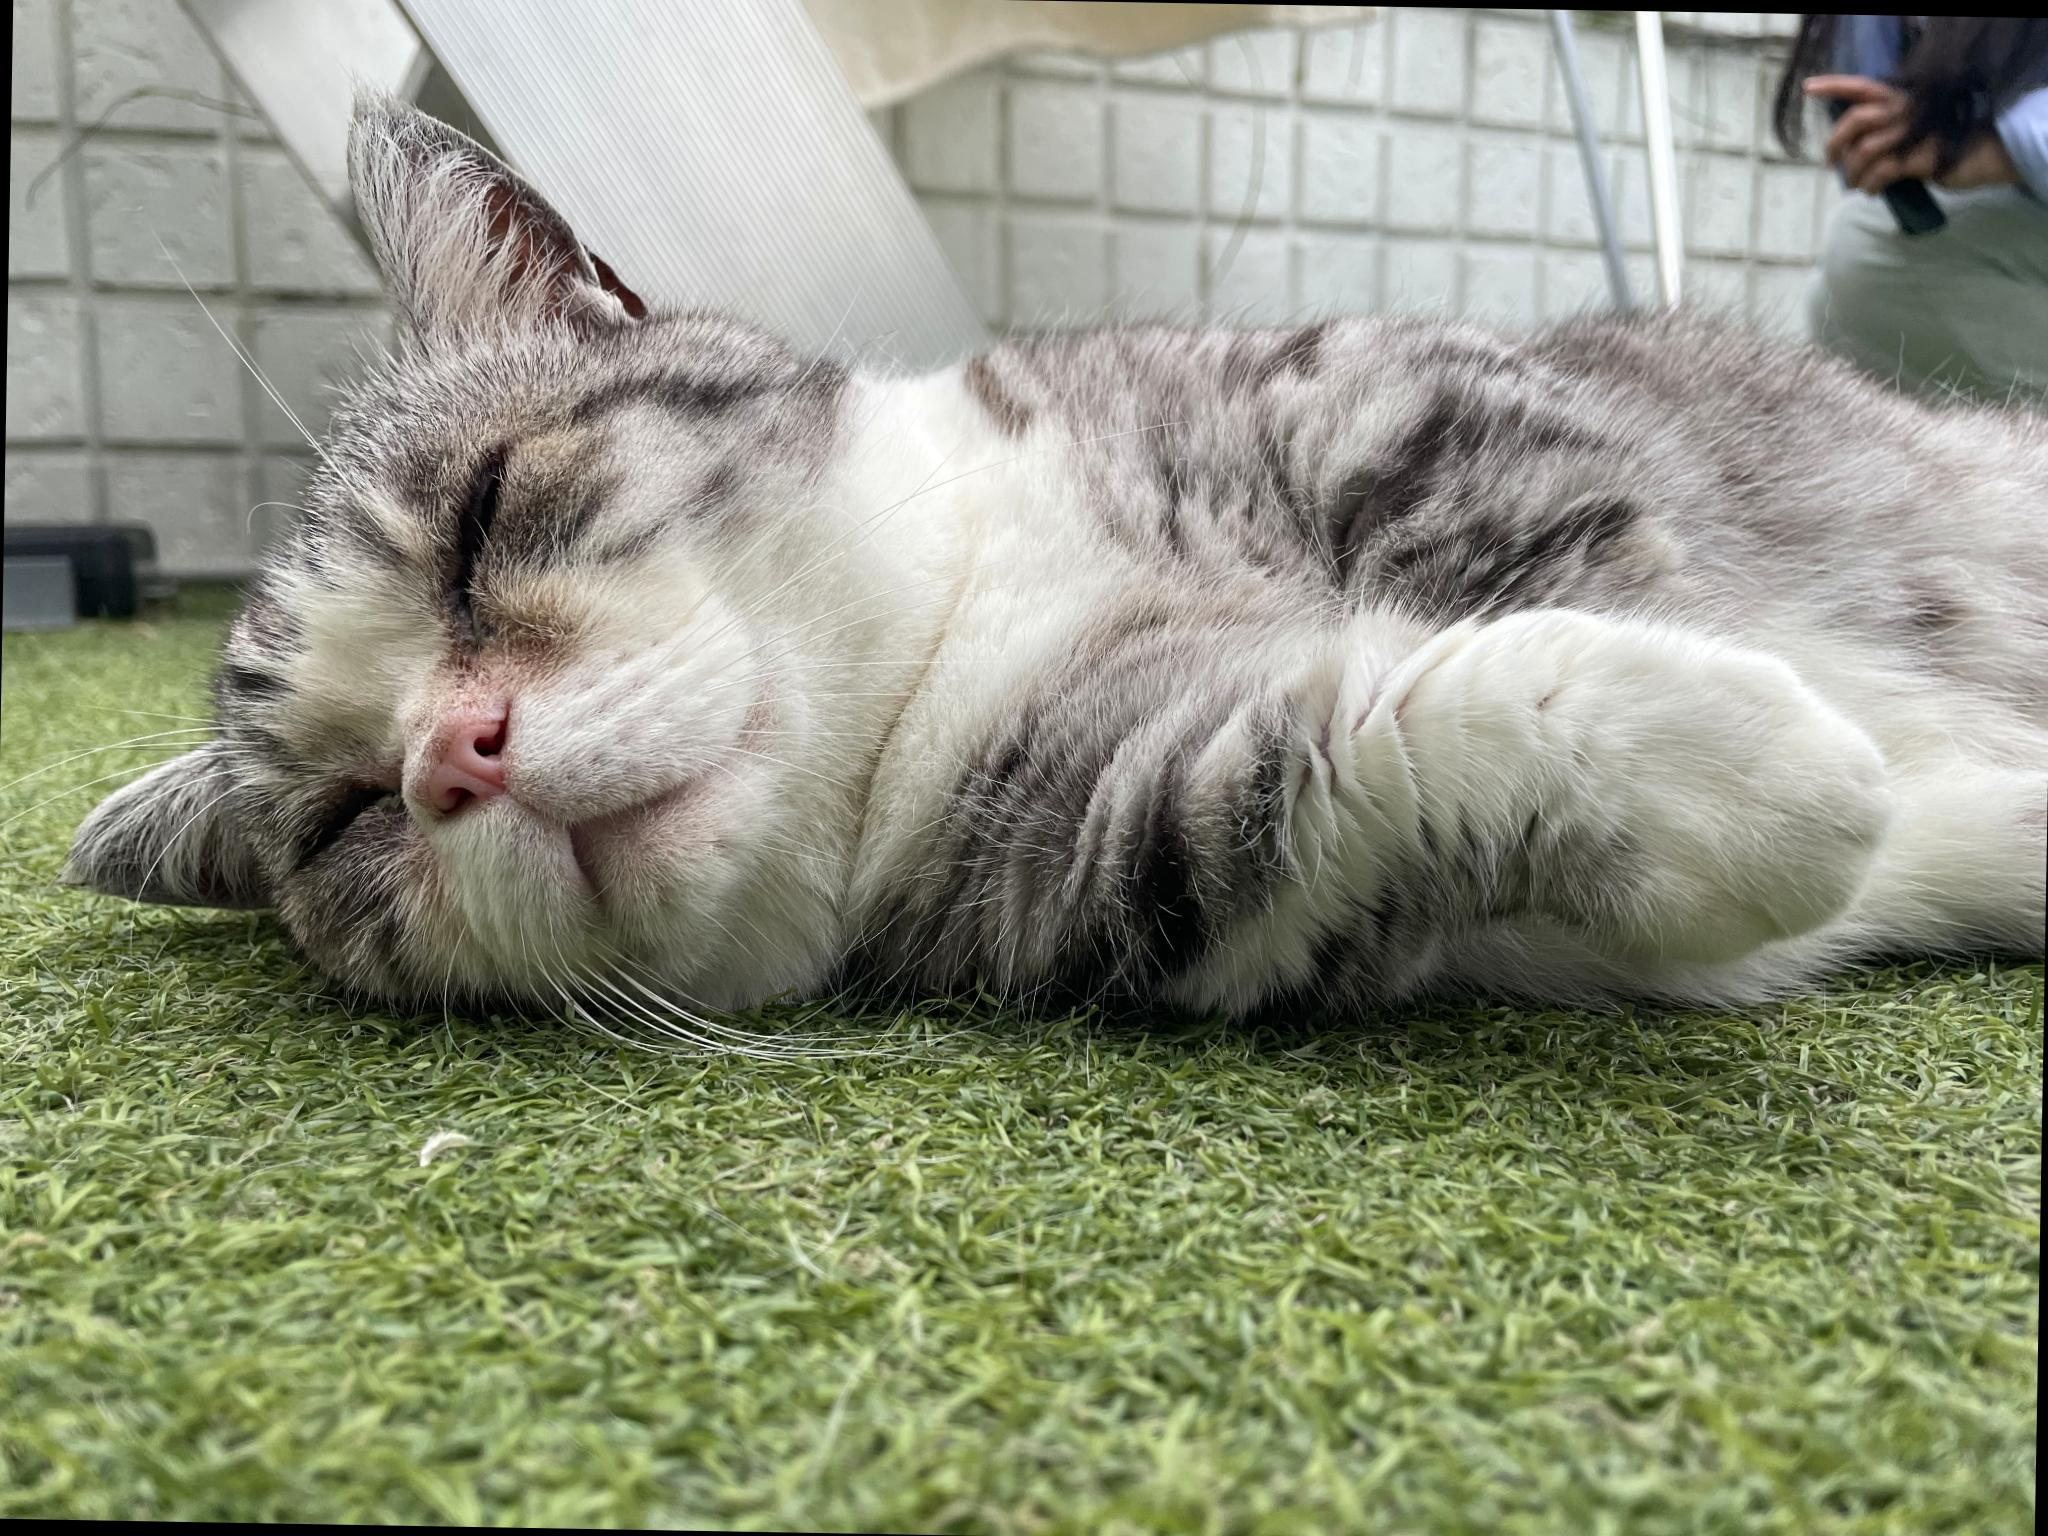cat: (40, 71, 2048, 1083)
